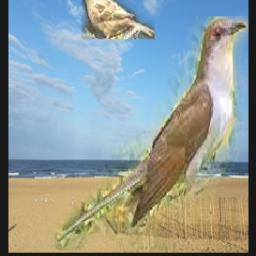Cuckoo: (47, 17, 248, 252)
Sparrow: (82, 0, 155, 40)
